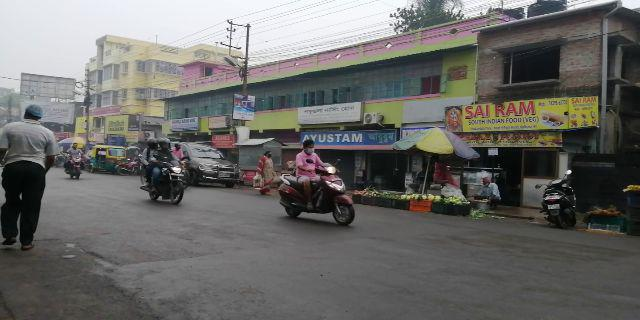Motorbike: (271, 139, 355, 226), (138, 131, 187, 203), (540, 167, 579, 229)
